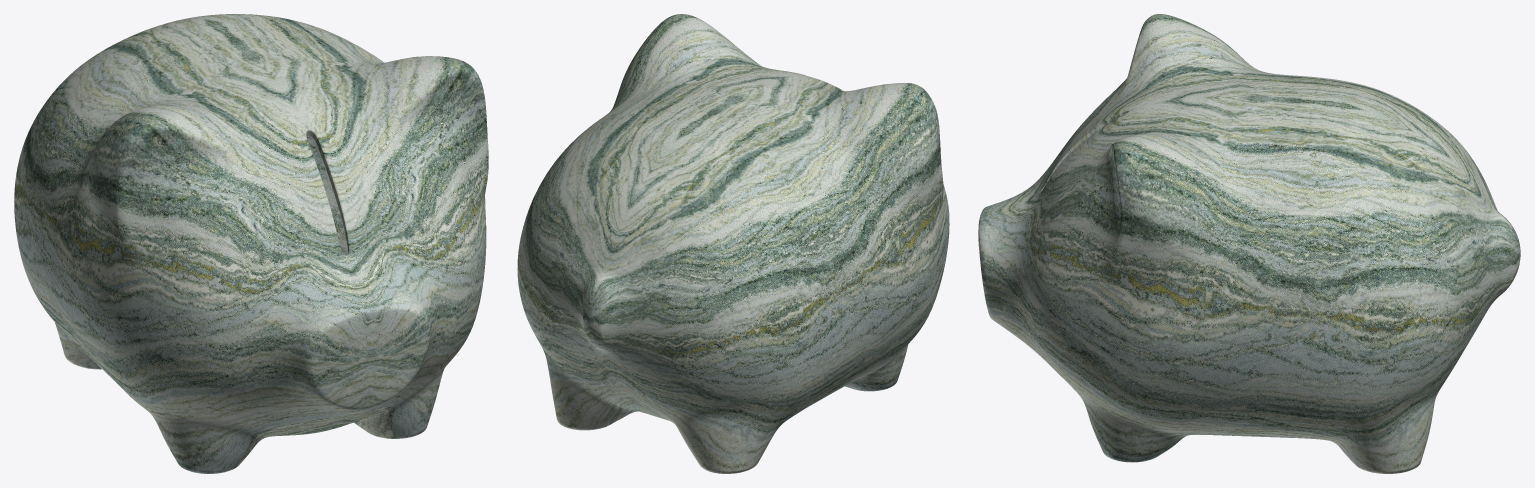
3 views of the same model, side by side, from view 1: azimuth 30°, elevation 25°; view 2: azimuth 150°, elevation 25°; view 3: azimuth 270°, elevation 25° (orthographic). The views are drawn at different scales.
Parts seen in each view (by area): view 1: PiggyBank - 42; view 2: PiggyBank - 42; view 3: PiggyBank - 42.
Boxes of the visible parts, bbox=[...] form: PiggyBank - 42: bbox=[14, 14, 488, 473]; PiggyBank - 42: bbox=[517, 14, 949, 473]; PiggyBank - 42: bbox=[978, 14, 1520, 473].
Bounding box in the file's own units: 0.0203 × 0.0181 × 0.027.
Materials: 1 (1 with a texture image).
